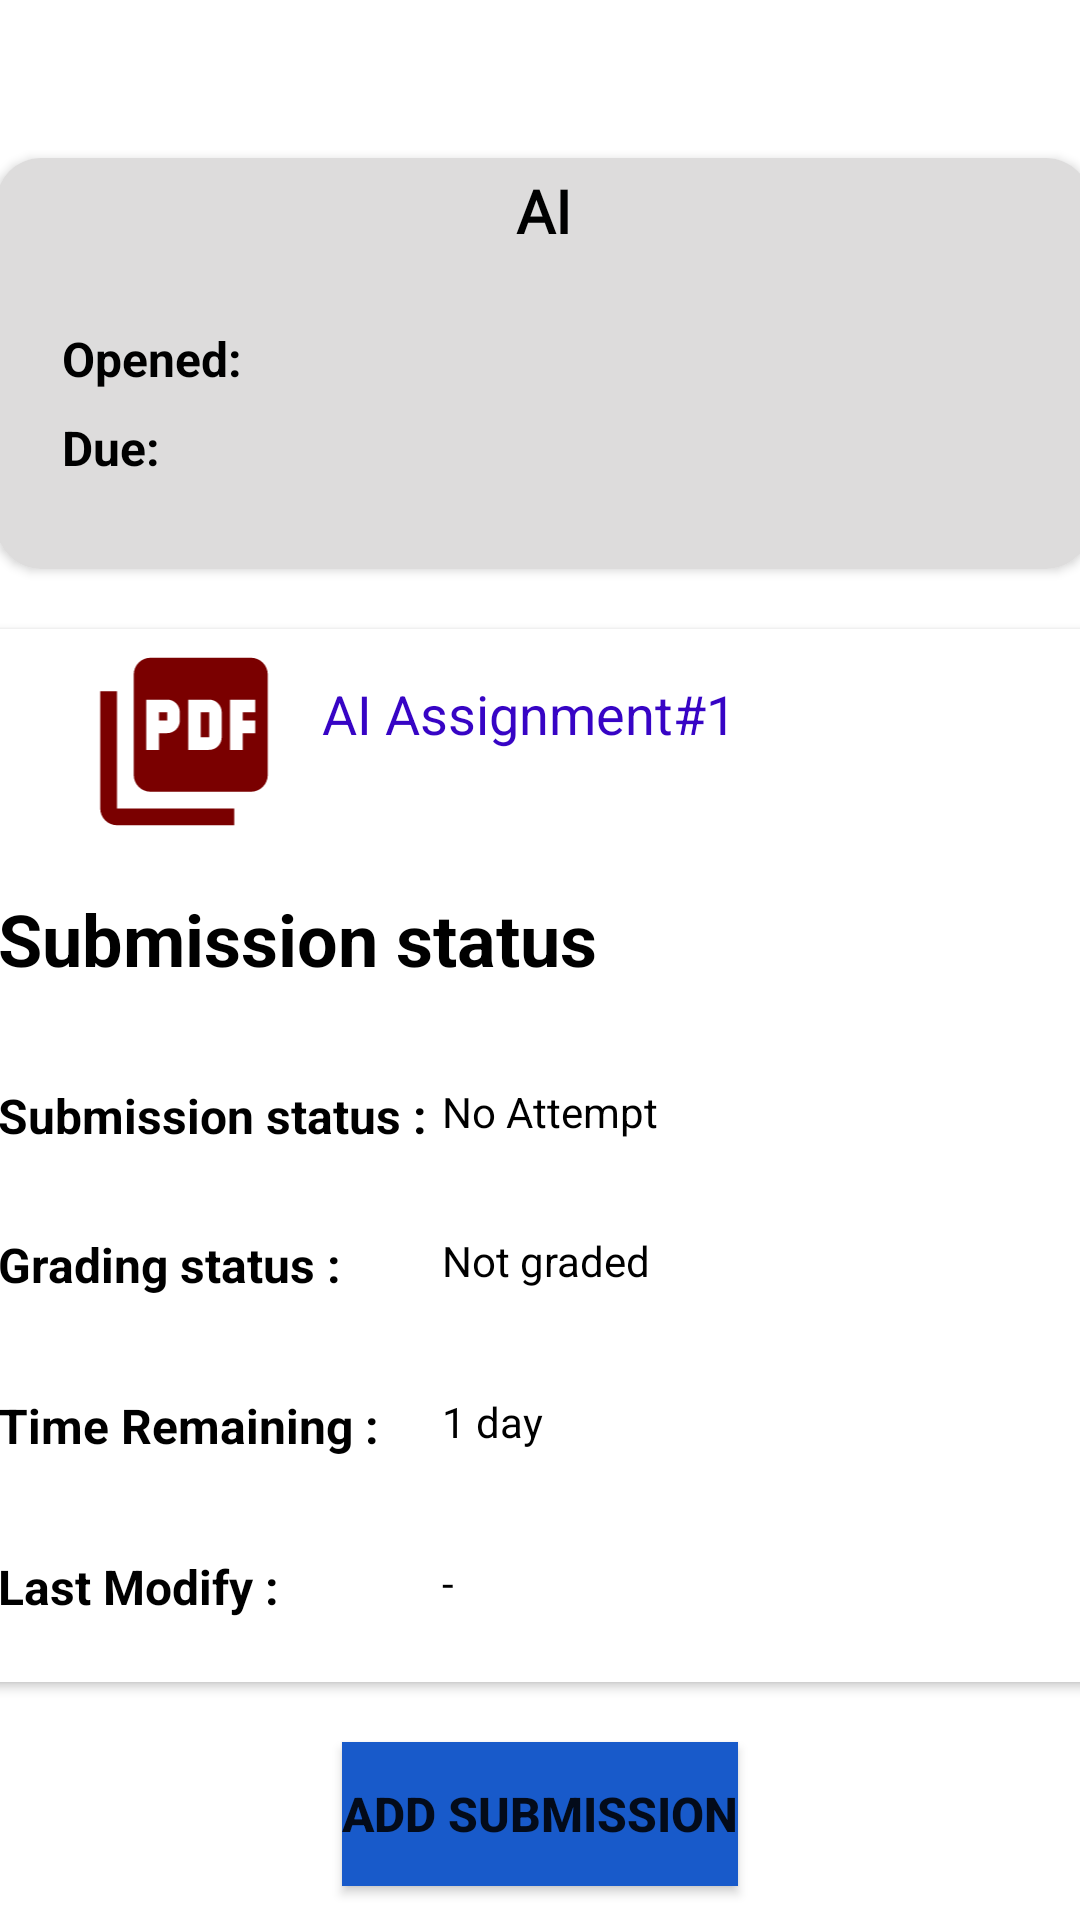

Icons on this 1080×1920 Android screen, each with the point to tap as (x,y):
picture as pdf: (184,741)
